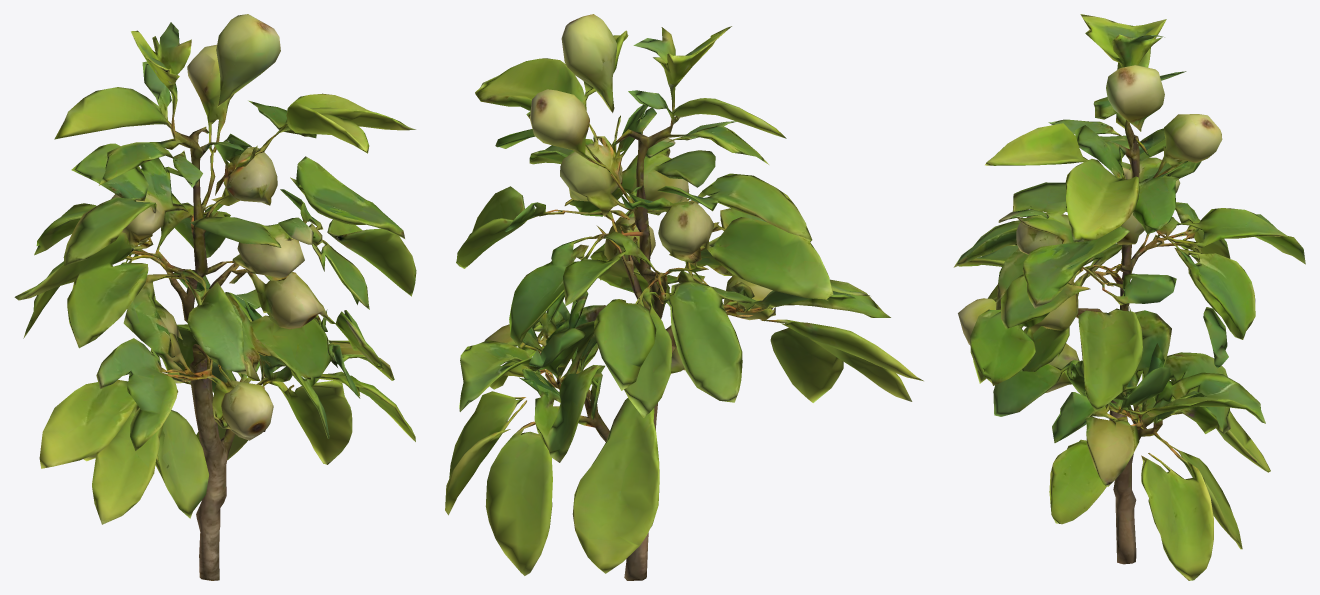
File: amla-tree.glb
The picture shows the model from 3 angles, left to right: view 1: azimuth 30°, elevation 25°; view 2: azimuth 150°, elevation 25°; view 3: azimuth 270°, elevation 25°; orthographic projection. The views are drawn at different scales.
Bounding box in the file's own units: 1.58 × 2 × 1.24.
1 material, 1 textured.
